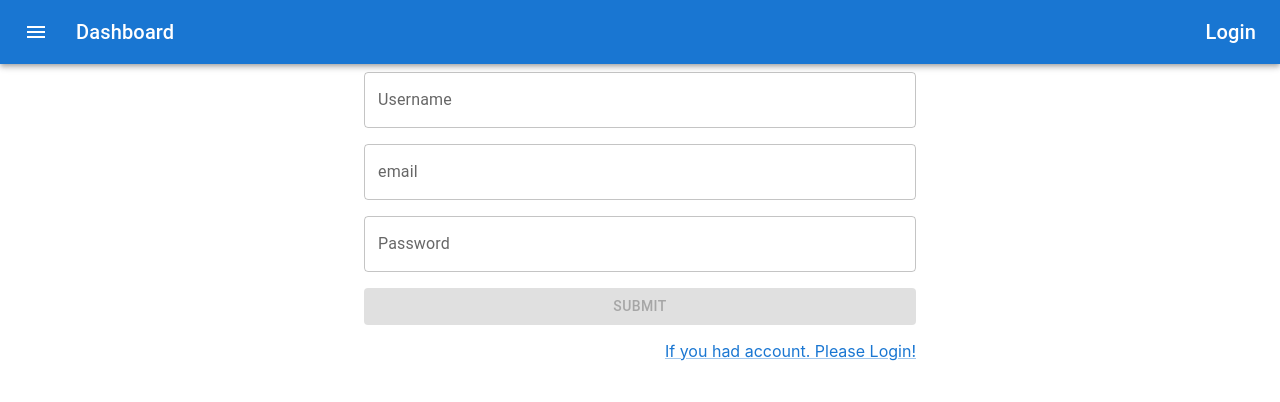
Scenario: Register spec › Error Email is proper
In the field with id "email": (640,172) [364,144,916,200], type "ad"
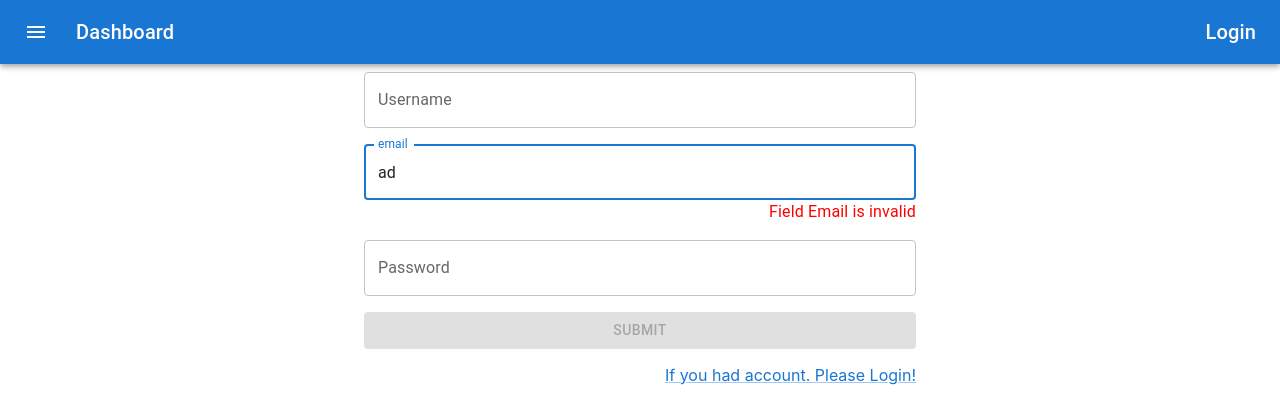
Result: the text with id "emailerror" reads "Field Email is invalid" at [769,202,916,221]
